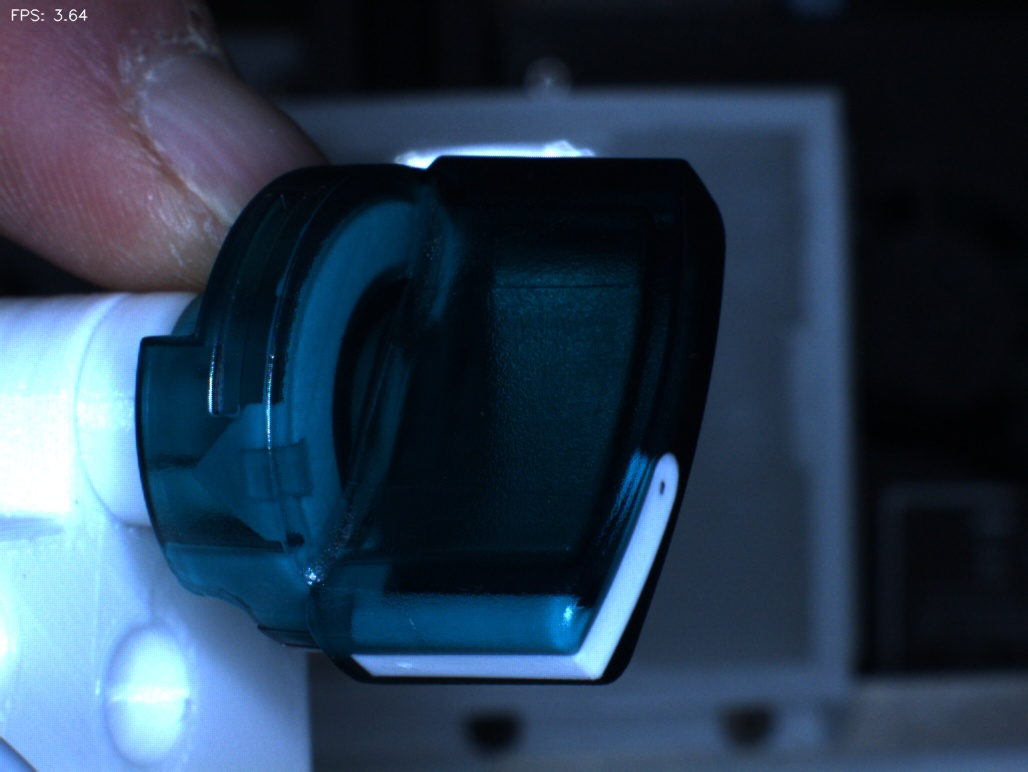PointNoir: (629, 443, 706, 547)
